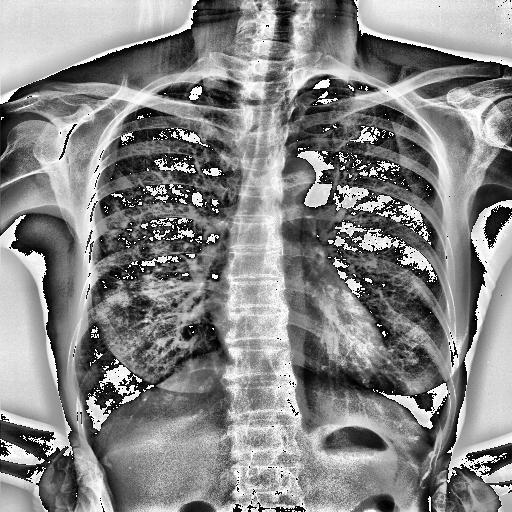10- Pleural effusion: (416, 428, 442, 458), (81, 422, 108, 444)
11- Pleural thickening: (416, 428, 442, 458), (81, 422, 108, 444)
13- Pulmonary fibrosis: (104, 178, 196, 318), (102, 203, 172, 309), (100, 198, 150, 242), (94, 266, 184, 290)
5- ILD: (104, 178, 196, 318)
7- Lung Opacity: (104, 286, 134, 306), (401, 352, 422, 366)
9- Other lesion: (104, 178, 196, 318), (106, 353, 200, 417)
